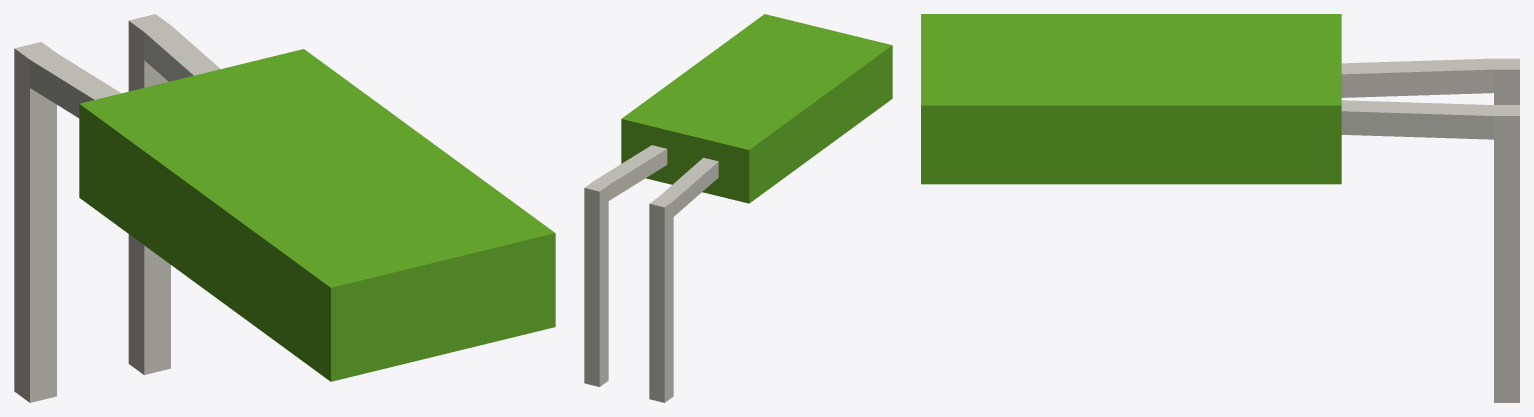
The model's file is kc-led_rectangular_w5.0mm_h2.0mm_horizontal_o3.81mm_z5.0mm.glb.
The picture shows the model from 3 angles, left to right: view 1: azimuth 30°, elevation 25°; view 2: azimuth 150°, elevation 25°; view 3: azimuth 270°, elevation 25°; orthographic projection. The views are drawn at different scales.
Parts seen in each view (by area): view 1: 0.16666666666666666_0.4166666666666667_0_0, 0.6666666666666666_0.6666666666666666_0.5833333333333334_0.8; view 2: 0.16666666666666666_0.4166666666666667_0_0, 0.6666666666666666_0.6666666666666666_0.5833333333333334_0.8; view 3: 0.16666666666666666_0.4166666666666667_0_0, 0.6666666666666666_0.6666666666666666_0.5833333333333334_0.8.
Boxes of the visible parts, x1,y1,x2,y2 form: 0.16666666666666666_0.4166666666666667_0_0: [79, 49, 555, 381]; 0.6666666666666666_0.6666666666666666_0.5833333333333334_0.8: [14, 14, 220, 402]; 0.16666666666666666_0.4166666666666667_0_0: [621, 14, 892, 203]; 0.6666666666666666_0.6666666666666666_0.5833333333333334_0.8: [584, 145, 718, 402]; 0.16666666666666666_0.4166666666666667_0_0: [921, 14, 1341, 184]; 0.6666666666666666_0.6666666666666666_0.5833333333333334_0.8: [1341, 58, 1519, 402].
Bounding box in the file's own units: 0.5 × 0.8 × 1.38.
